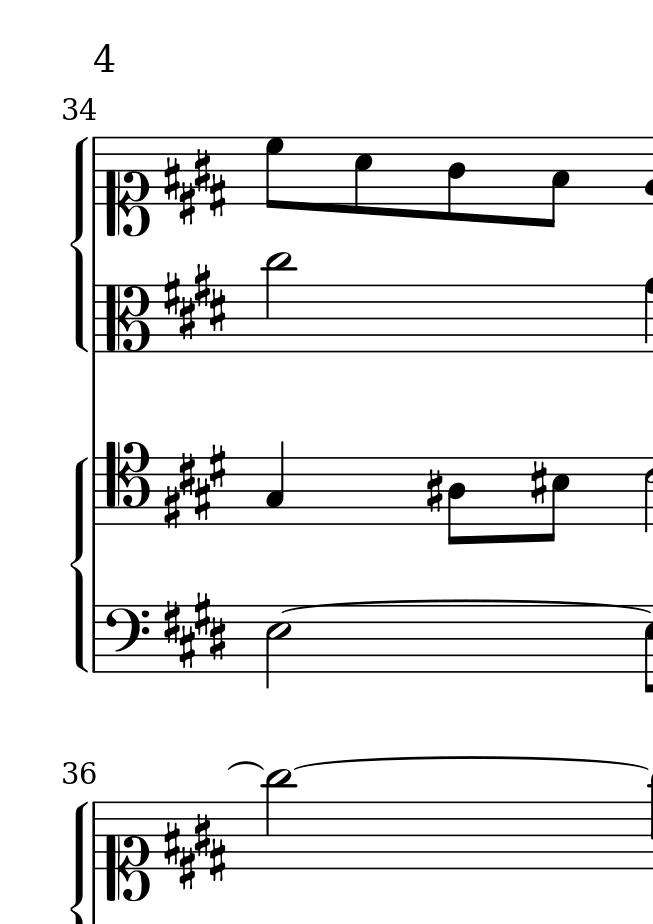2_11: (263, 252, 292, 354), (263, 768, 292, 870)
2_5: (263, 604, 293, 689)
3: (79, 759, 98, 786), (61, 96, 78, 122), (61, 761, 77, 787)
4: (93, 42, 115, 73), (80, 97, 98, 123)
4_3: (265, 438, 288, 527)
8_3: (541, 134, 572, 229)
8_4: (444, 136, 468, 223), (447, 455, 466, 549)
8_5: (545, 456, 570, 547), (352, 134, 374, 218)
8_7: (265, 135, 286, 211)
Bracke: (69, 137, 89, 355), (69, 456, 89, 674)
Cclef: (103, 284, 154, 355)
E_S: (161, 443, 230, 531), (161, 147, 228, 226), (162, 261, 227, 342), (162, 592, 228, 671), (162, 813, 229, 888)
Fclef: (104, 603, 150, 674)
Sharp: (530, 458, 548, 506), (425, 468, 443, 513)
Single_barline: (87, 458, 105, 525), (87, 284, 103, 353), (88, 800, 104, 869), (88, 137, 104, 204), (88, 607, 103, 671)
Slur: (280, 598, 651, 614), (293, 757, 650, 772), (224, 761, 265, 772)
Soprano_Cclef: (103, 800, 157, 907), (102, 136, 150, 240)
Tensor_Cclef: (101, 438, 151, 529)
